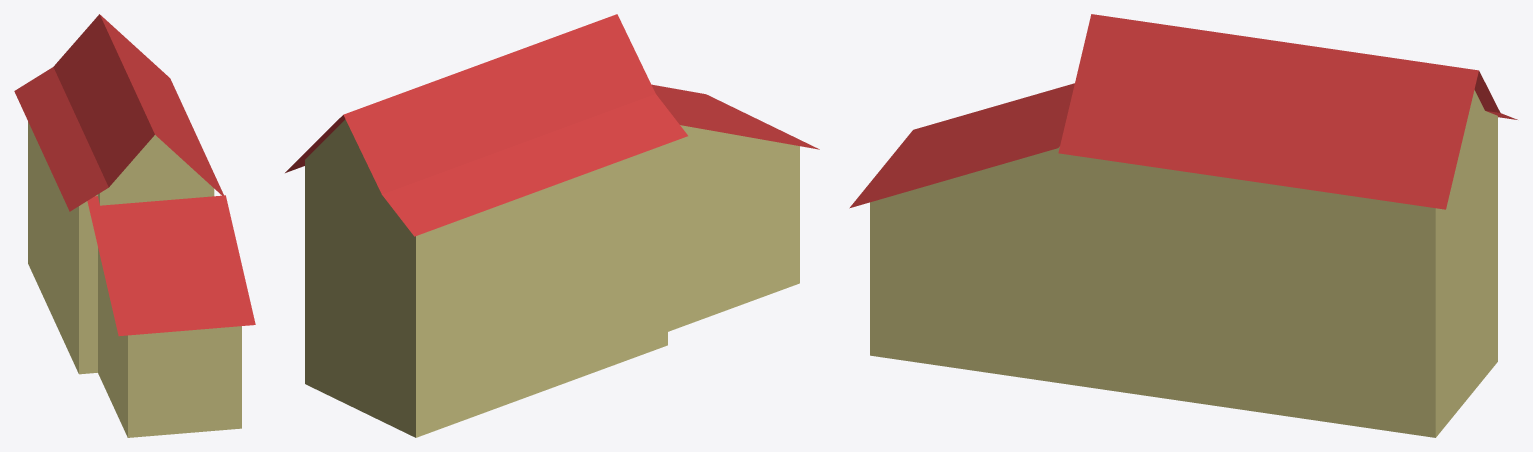
The picture shows the model from 3 angles, left to right: view 1: azimuth 30°, elevation 25°; view 2: azimuth 150°, elevation 25°; view 3: azimuth 270°, elevation 25°; orthographic projection. The views are drawn at different scales.
Size of the model in its own units: 11.93 by 20.4 by 11.29.
